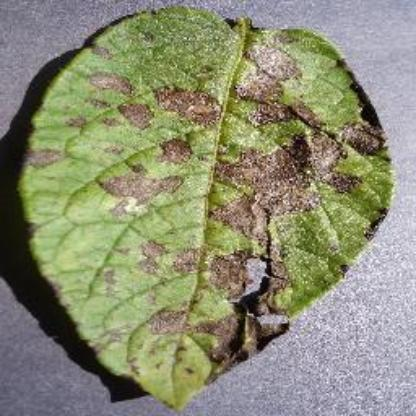Early-Blight: (17, 6, 395, 410)
